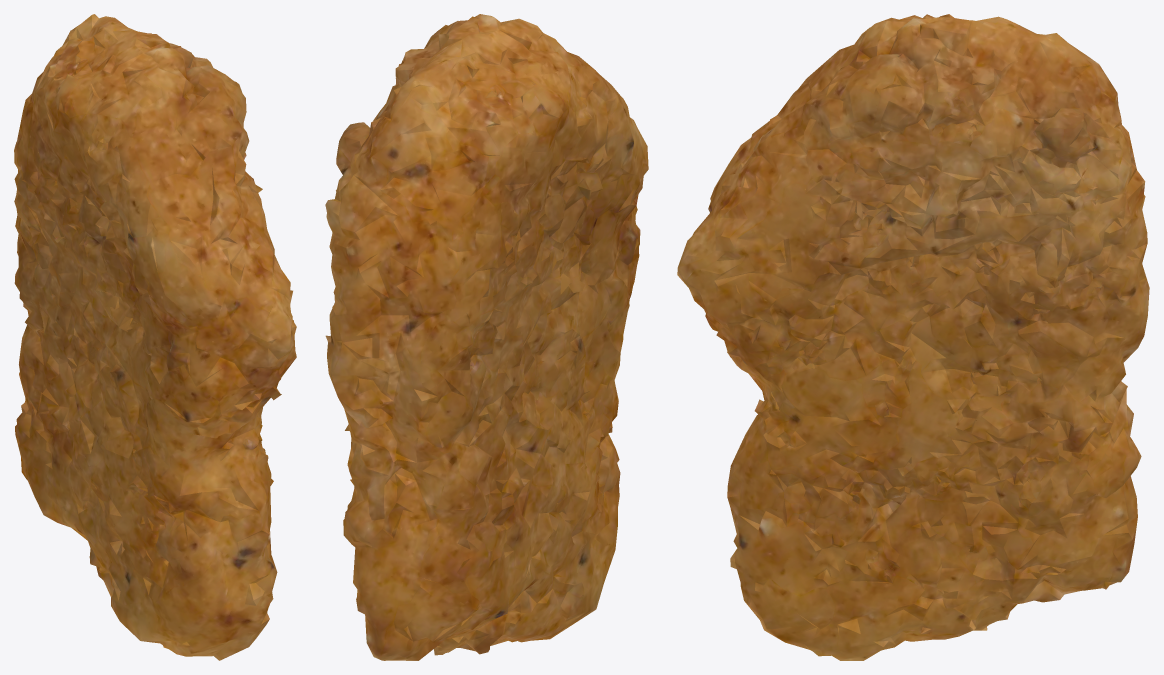
The picture shows the model from 3 angles, left to right: view 1: azimuth 30°, elevation 25°; view 2: azimuth 150°, elevation 25°; view 3: azimuth 270°, elevation 25°; orthographic projection. The views are drawn at different scales.
Visible parts, largest first — view 1: Object_2; view 2: Object_2; view 3: Object_2.
Part boxes in pixels (bbox=[...]): Object_2: bbox=[14, 14, 296, 660]; Object_2: bbox=[325, 14, 648, 660]; Object_2: bbox=[677, 14, 1149, 660].
Size of the model in its own units: 15.43 by 55.17 by 37.31.
Materials: 1 (1 with a texture image).
